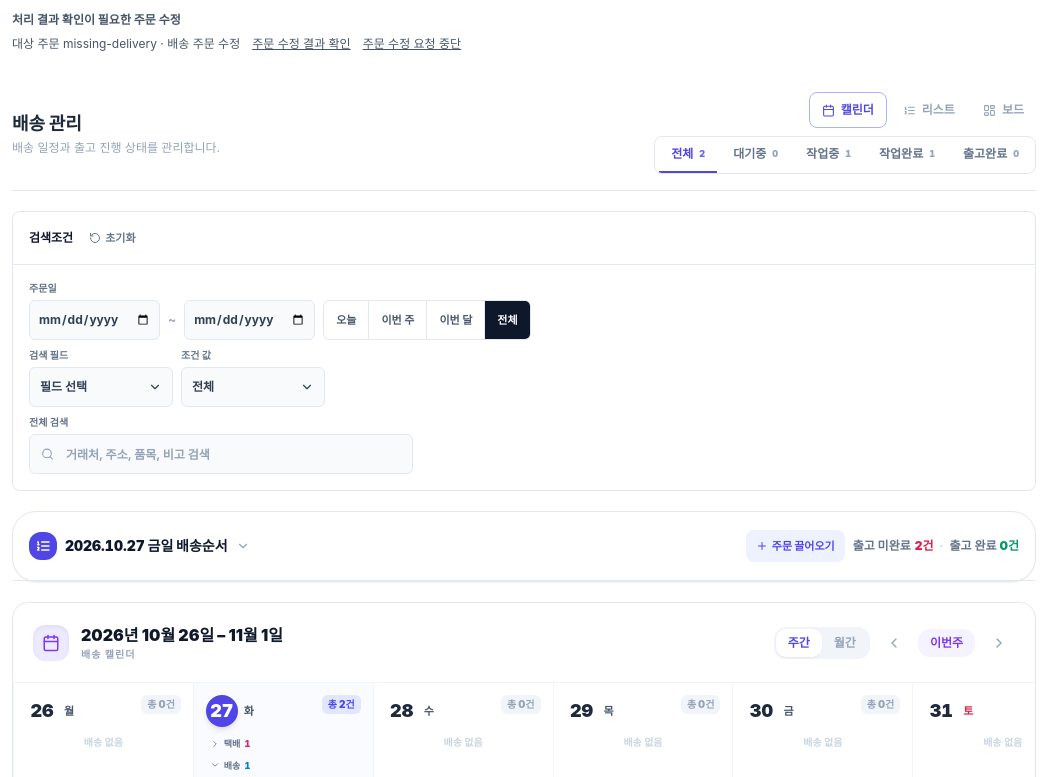
Test case: 배송 페이지가 복구 패널을 소유하고 내장 목록으로 전환해도 한벌만 표시한다
Click the button "2026.10.27 금일 배송순서" at (139, 546), box x1=29 y1=524 x2=250 y2=568
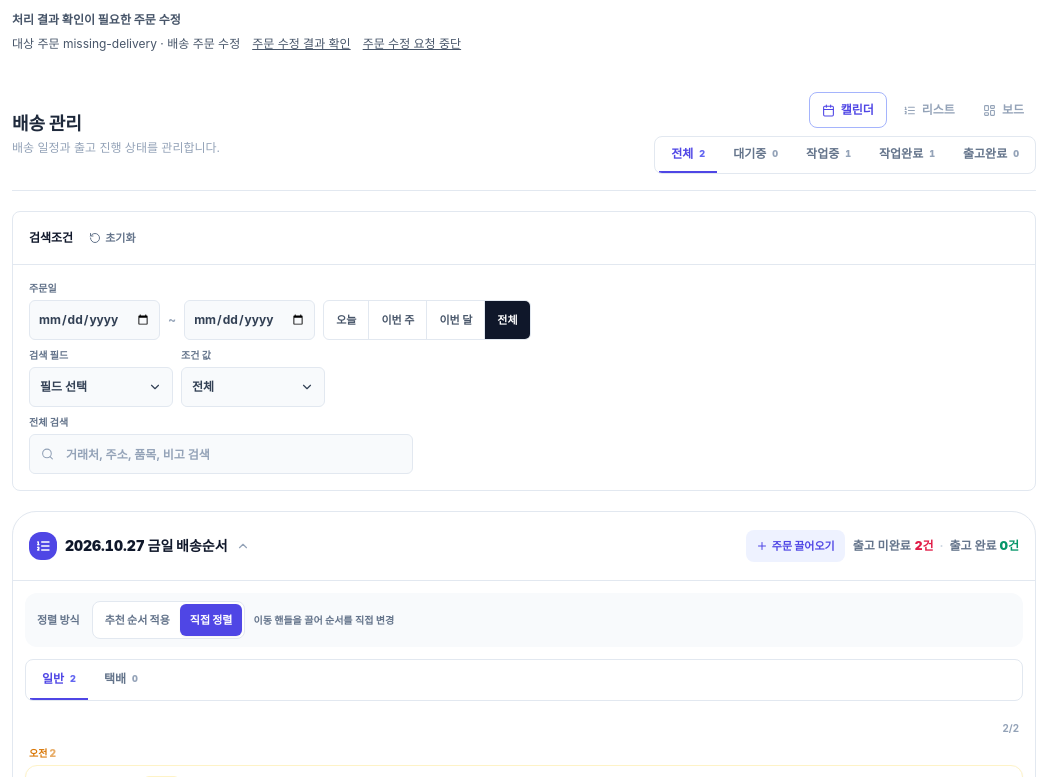
Expected: the number of elements "처리 결과 확인이 필요한 주문 수정" is 1, x1=12 y1=12 x2=461 y2=52
Click the button "리스트" at (929, 110), box x1=891 y1=92 x2=967 y2=128
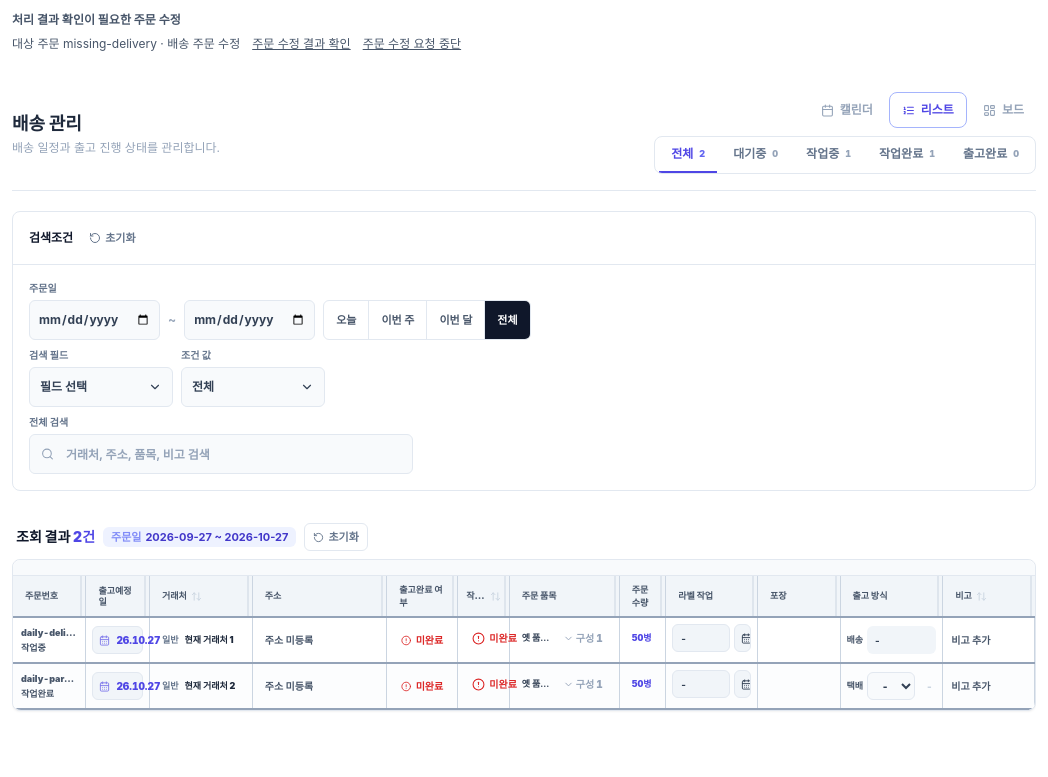
Expected: the number of elements "처리 결과 확인이 필요한 주문 수정" is 1, x1=12 y1=12 x2=461 y2=52
Click the button "주문 수정 요청 중단" at (412, 44), box x1=363 y1=36 x2=461 y2=52
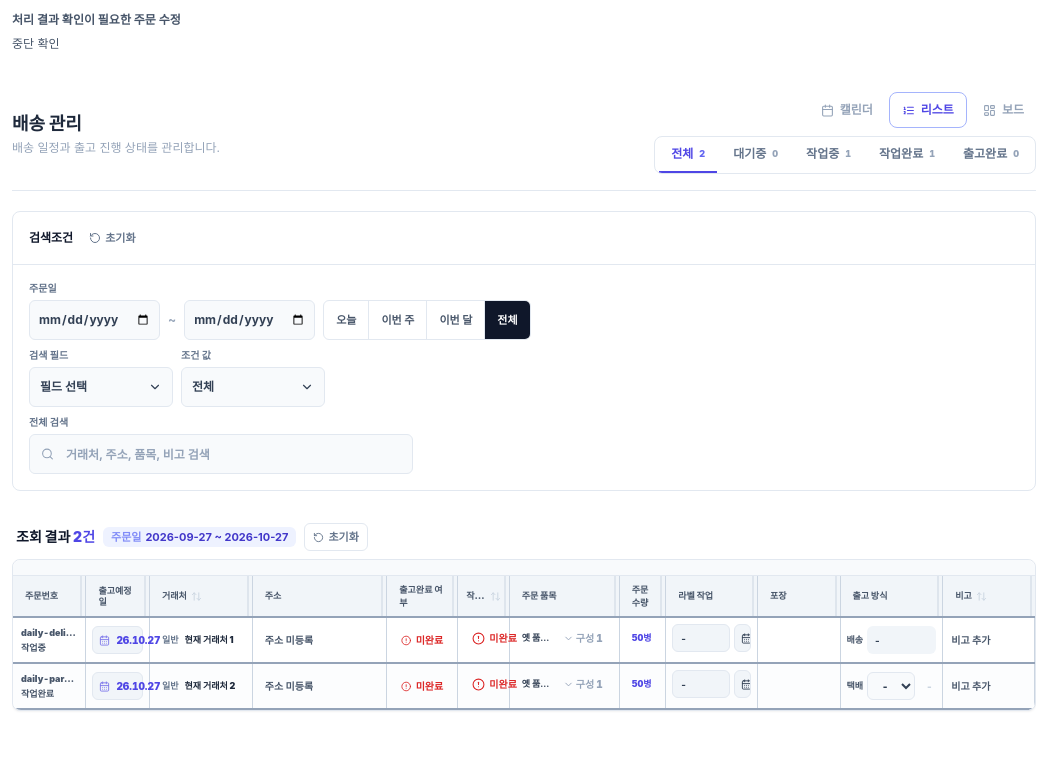
Expected: the number of elements "처리 결과 확인이 필요한 주문 수정" is 1, x1=12 y1=12 x2=181 y2=51
Expected: the button "주문 수정 요청 중단" is gone
Expected: the message reads "중단 확인", x1=12 y1=36 x2=60 y2=51
